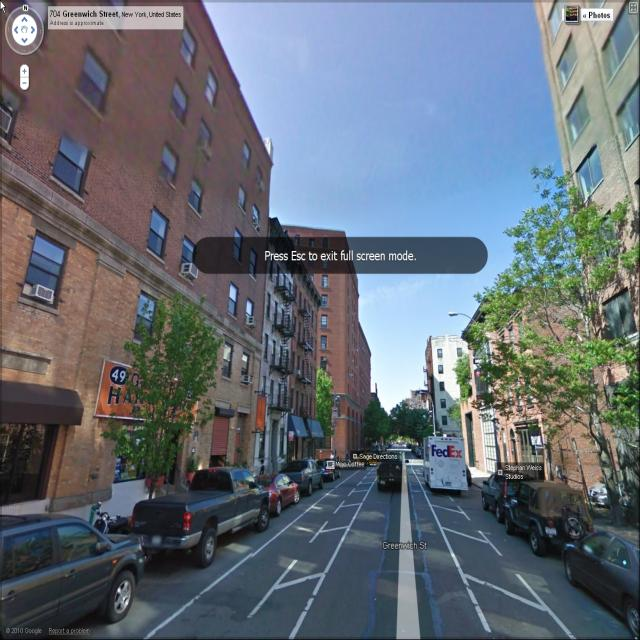b_1: (306, 227, 368, 461), (258, 224, 298, 462), (287, 264, 322, 473), (420, 317, 477, 440), (357, 308, 378, 436)
b_2: (2, 1, 247, 477), (533, 9, 637, 484), (485, 274, 606, 502), (462, 319, 509, 470)
